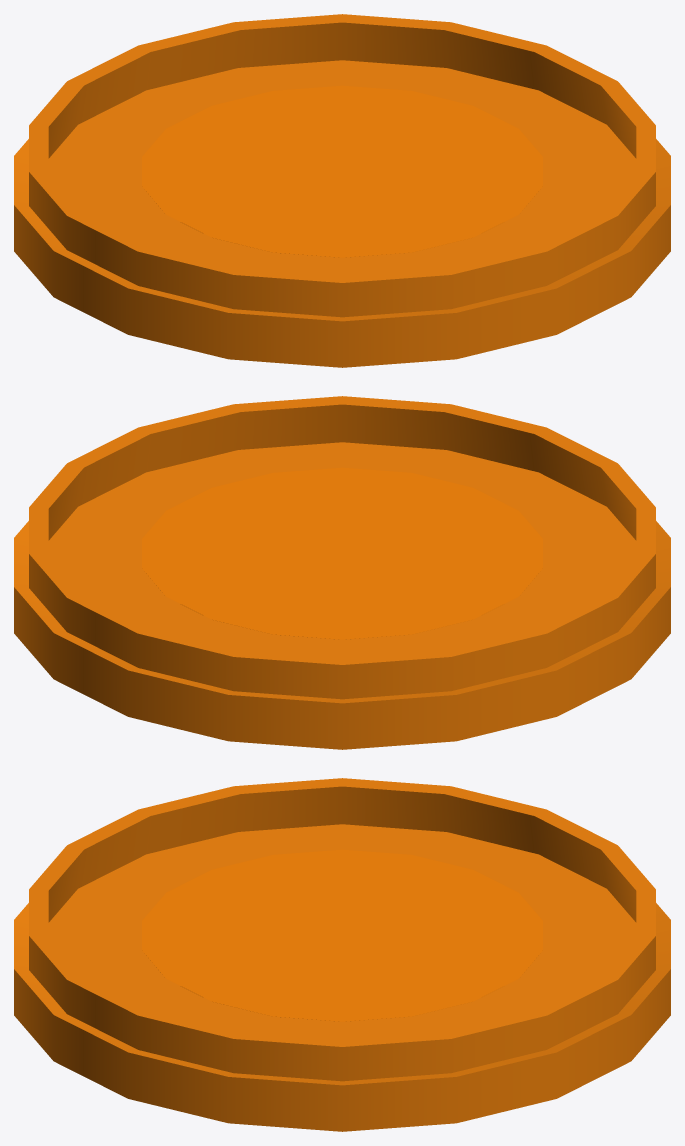
The model's file is cookieC.fbx.
3 views of the same model, one above another, from view 1: azimuth 30°, elevation 25°; view 2: azimuth 150°, elevation 25°; view 3: azimuth 270°, elevation 25° (orthographic).
Visible parts, largest first — view 1: Cylinder002; view 2: Cylinder002; view 3: Cylinder002.
Part boxes in pixels (x1,y1,x2,y2): Cylinder002: (14,14,670,367); Cylinder002: (14,396,670,749); Cylinder002: (14,778,670,1131).
Size of the model in its own units: 71.36 by 9.24 by 70.27.
